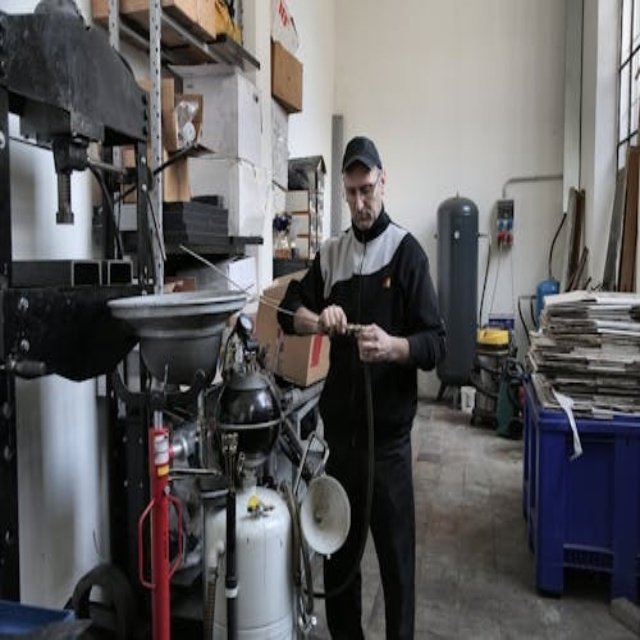Gafas: (344, 174, 380, 200)
Sin_guantes: (354, 323, 395, 364), (314, 303, 347, 336)
Sin_mascara: (351, 208, 371, 227)
